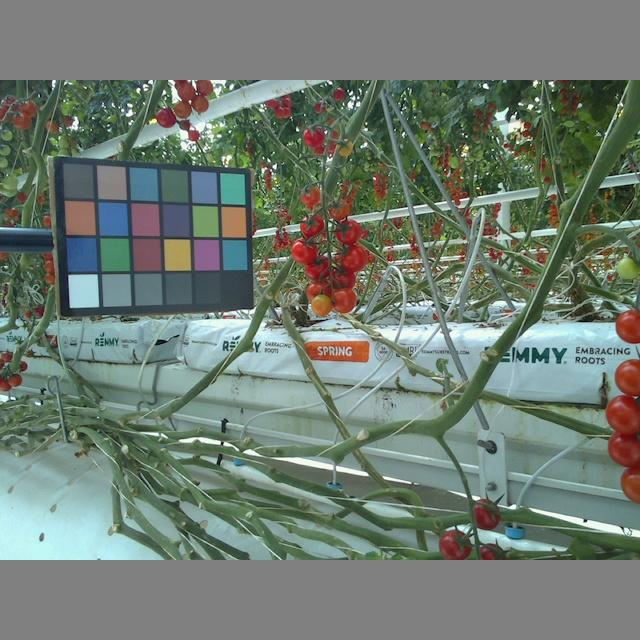green: (616, 256, 639, 282)
pink: (310, 291, 332, 316), (177, 82, 197, 102), (173, 99, 193, 119), (189, 94, 210, 112)
red: (604, 395, 640, 435), (604, 431, 640, 468), (439, 528, 477, 560), (612, 356, 640, 395), (470, 497, 501, 531), (337, 243, 370, 271), (615, 310, 640, 345), (332, 217, 363, 245), (287, 237, 317, 263), (298, 213, 325, 239), (302, 254, 330, 278), (334, 285, 356, 313), (301, 125, 328, 146), (326, 197, 350, 219), (299, 186, 323, 207)
